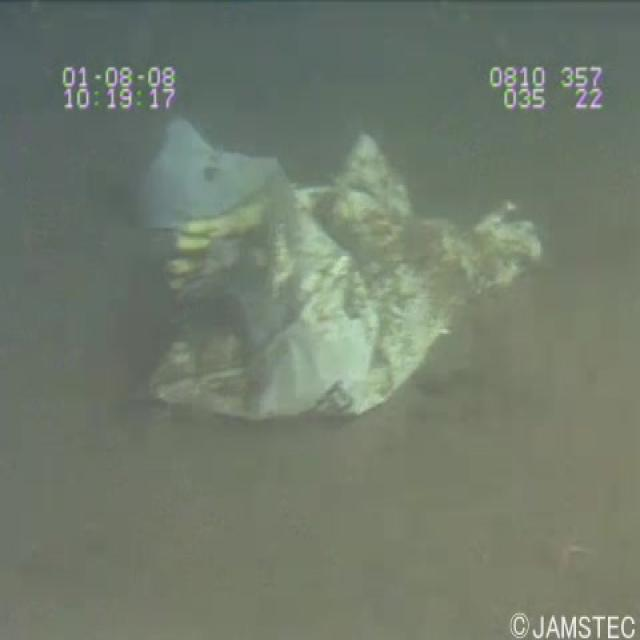plastic: (96, 110, 555, 441)
